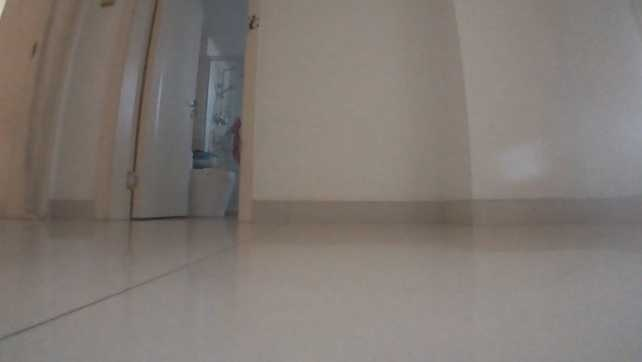door_anno: (107, 0, 200, 219)
toilet: (186, 165, 237, 219)
